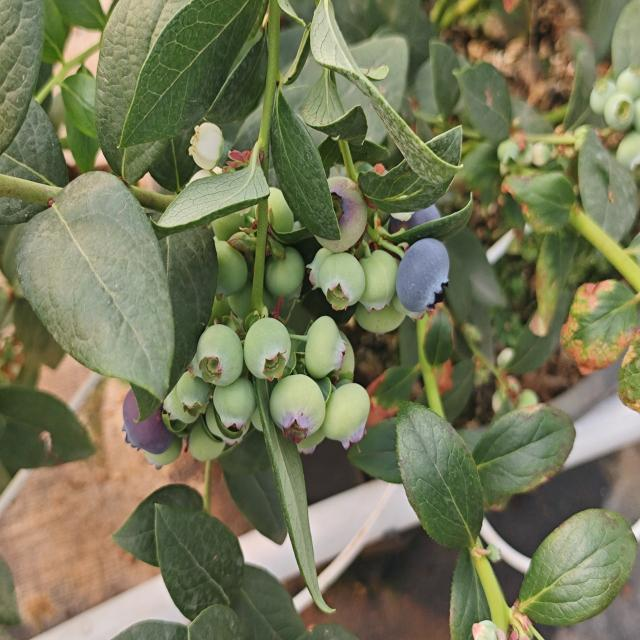ripe: (116, 391, 171, 457), (401, 241, 451, 308), (388, 190, 446, 245)
